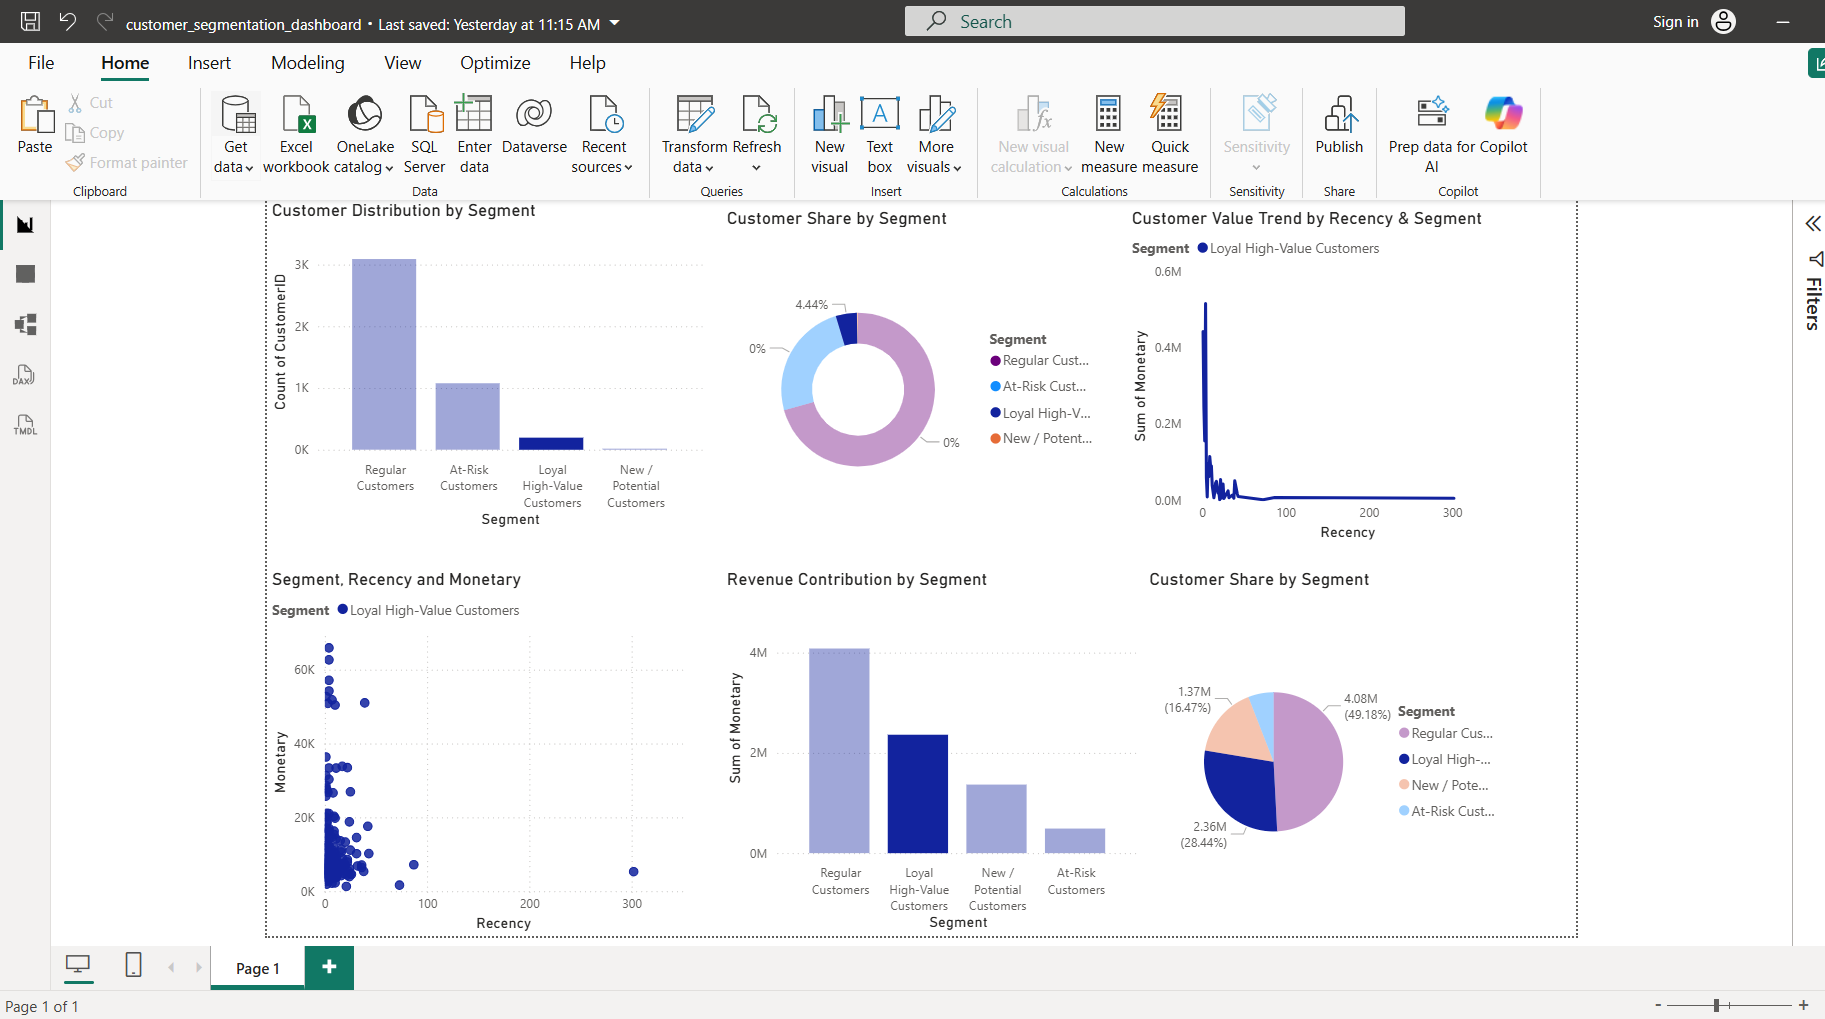

This screenshot's page, from the dashboard's own definition file:
{"tool":"powerbi","page":{"name":"Page 1","canvas":[1280,720],"ordinal":0},"visuals":[{"type":"columnChart","title":"Customer Distribution by Segment","fields":{"Category":["customer_segmentation_powerbi.Segment"],"Y":["CountNonNull(customer_segmentation_powerbi.CustomerID)"]},"box":[0,0,431.7,325.3],"z":0},{"type":"scatterChart","fields":{"X":["customer_segmentation_powerbi.Recency"],"Series":["customer_segmentation_powerbi.Segment"],"Y":["customer_segmentation_powerbi.Monetary"]},"box":[0,360.6,421.9,359.2],"z":1000},{"type":"columnChart","title":"Revenue Contribution by Segment ","fields":{"Category":["customer_segmentation_powerbi.Segment"],"Y":["Sum(customer_segmentation_powerbi.Monetary)"]},"box":[444.7,360.6,413.4,359.2],"z":2000},{"type":"donutChart","title":"Customer Share by Segment ","fields":{"Category":["customer_segmentation_powerbi.Segment"],"Y":["CountNonNull(customer_segmentation_powerbi.CustomerID)"]},"box":[432.2,13.7,376,337.6],"z":3000},{"type":"lineChart","title":"Customer Value Trend by Recency & Segment","fields":{"Category":["customer_segmentation_powerbi.Recency"],"Y":["Sum(customer_segmentation_powerbi.Monetary)"],"Series":["customer_segmentation_powerbi.Segment"]},"box":[841.3,13.5,374.2,324.1],"z":3001},{"type":"pieChart","title":"Customer Share by Segment","fields":{"Category":["customer_segmentation_powerbi.Segment"],"Y":["Sum(customer_segmentation_powerbi.Monetary)"]},"box":[858,361,358,359],"z":3002}]}

Visuals, with their boxes on the page's 1280x720 design canvas (x1, y1, x2, y2). These are canvas units, not pixel positions in the 1825x1019 screenshot, which may show the page scaled, cropped or inside an application window:
"Customer Distribution by Segment" columnChart: 0,0,432,325
scatterChart - customer_segmentation_powerbi.Recency x customer_segmentation_powerbi.Segment: 0,361,422,720
"Revenue Contribution by Segment " columnChart: 445,361,858,720
"Customer Share by Segment " donutChart: 432,14,808,351
"Customer Value Trend by Recency & Segment" lineChart: 841,14,1216,338
"Customer Share by Segment" pieChart: 858,361,1216,720
